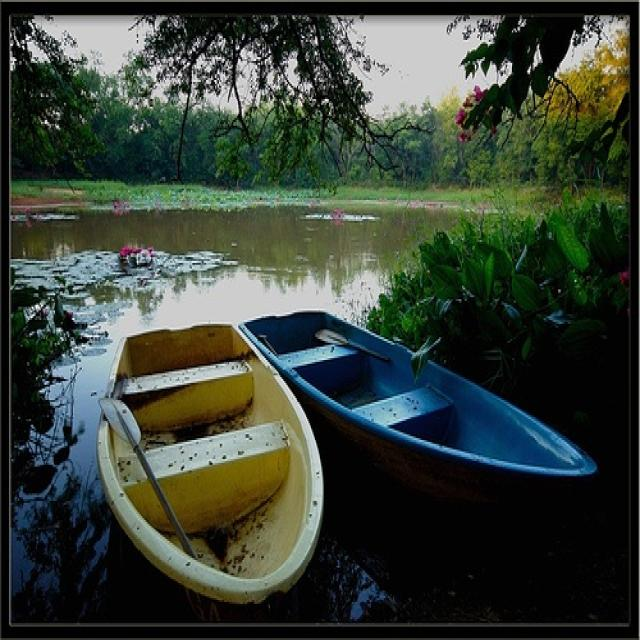boat: (235, 304, 604, 511), (102, 319, 325, 593)
